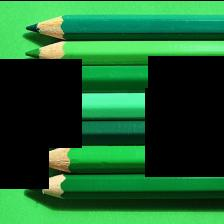green: (26, 64, 224, 92), (27, 91, 224, 119), (29, 144, 224, 172), (26, 14, 224, 39), (27, 173, 224, 198), (25, 40, 224, 64), (28, 120, 224, 144)
